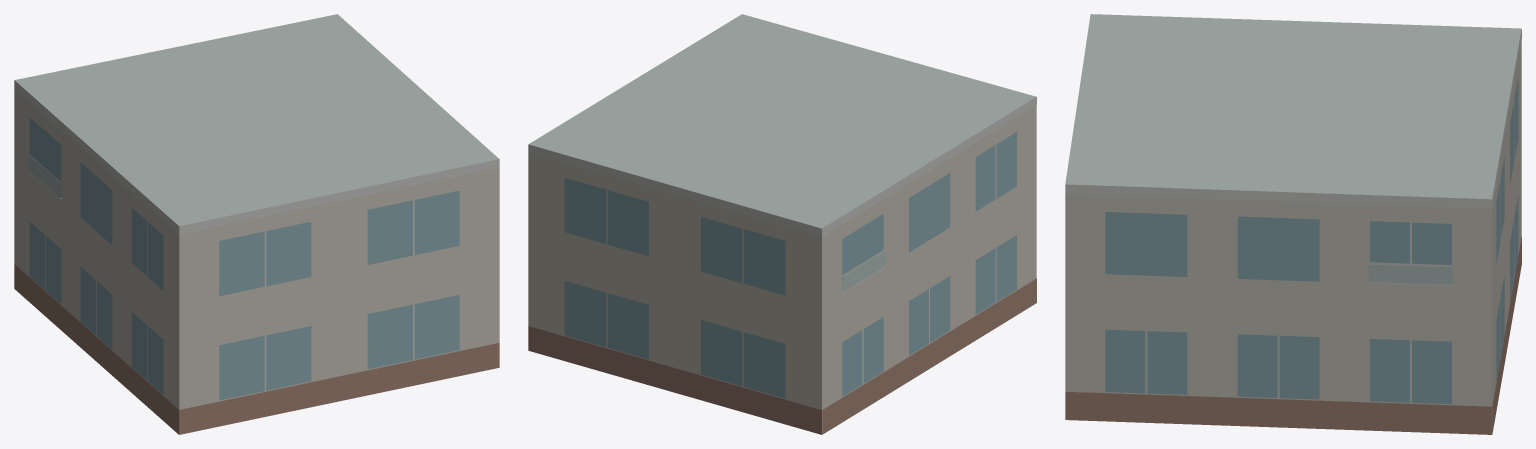
File: survey-upis-32664705.glb
The picture shows the model from 3 angles, left to right: view 1: azimuth 30°, elevation 25°; view 2: azimuth 150°, elevation 25°; view 3: azimuth 270°, elevation 25°; orthographic projection. The views are drawn at different scales.
Parts seen in each view (by area): view 1: survey-upis-32664705.tmp; view 2: survey-upis-32664705.tmp; view 3: survey-upis-32664705.tmp.
Part boxes in pixels (x1,y1,x2,y2): survey-upis-32664705.tmp: (14,14,499,434); survey-upis-32664705.tmp: (528,14,1036,434); survey-upis-32664705.tmp: (1065,14,1521,434).
Bounding box in the file's own units: 10.3 × 6.1 × 10.73.
